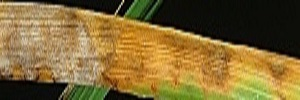RiceSheathBrownRot: (1, 1, 298, 99)
